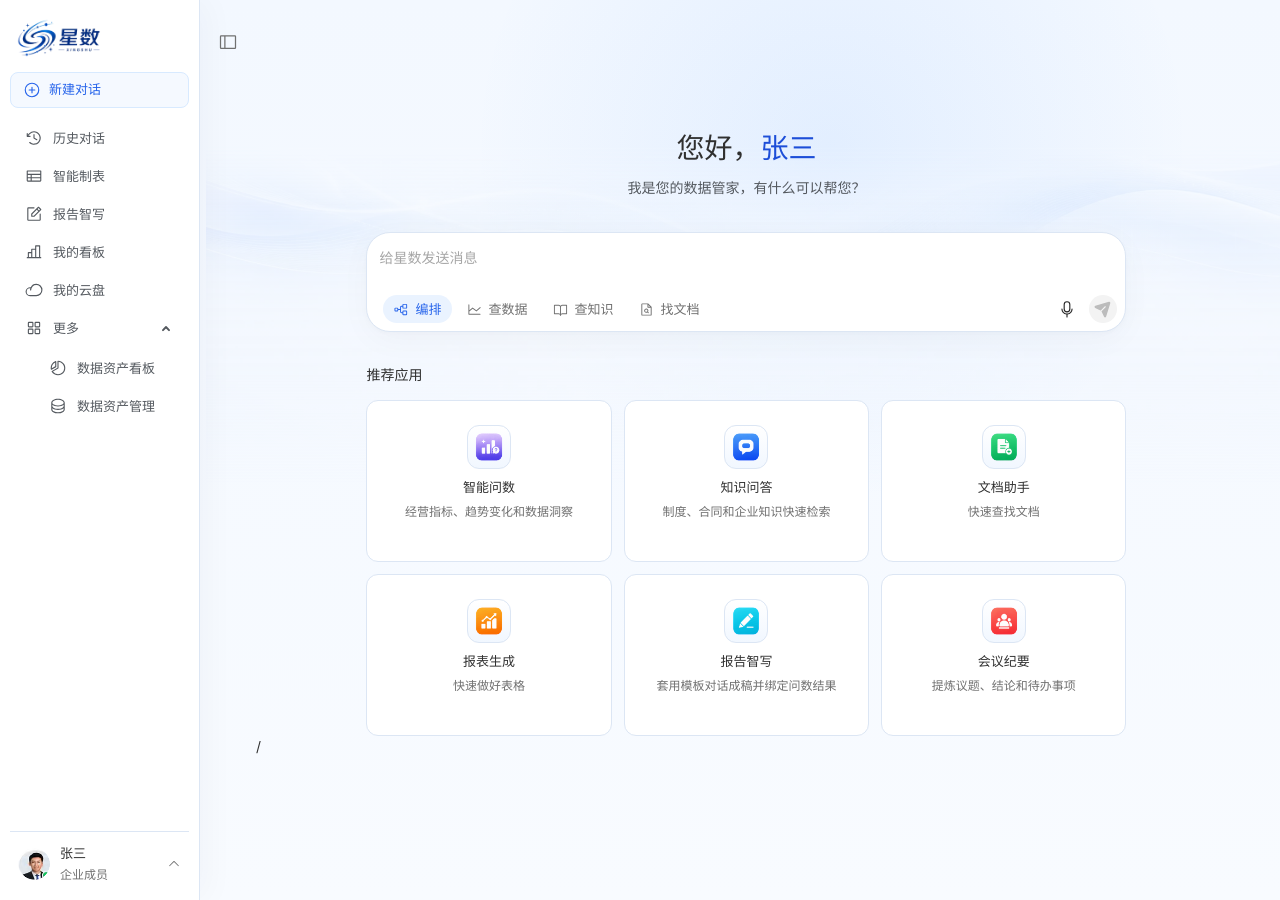
HomePage › uses the colorful recommended app icons and exposes selection state
Expected: the number of elements with class "xs-app-card" is 6, [366, 400, 612, 562]; [624, 400, 869, 562]; [881, 400, 1126, 562]; [366, 574, 612, 736]; [624, 574, 869, 736]; [881, 574, 1126, 736]
Click the button with aria-label "打开 智能问数" at (489, 482), box [383, 415, 595, 549]
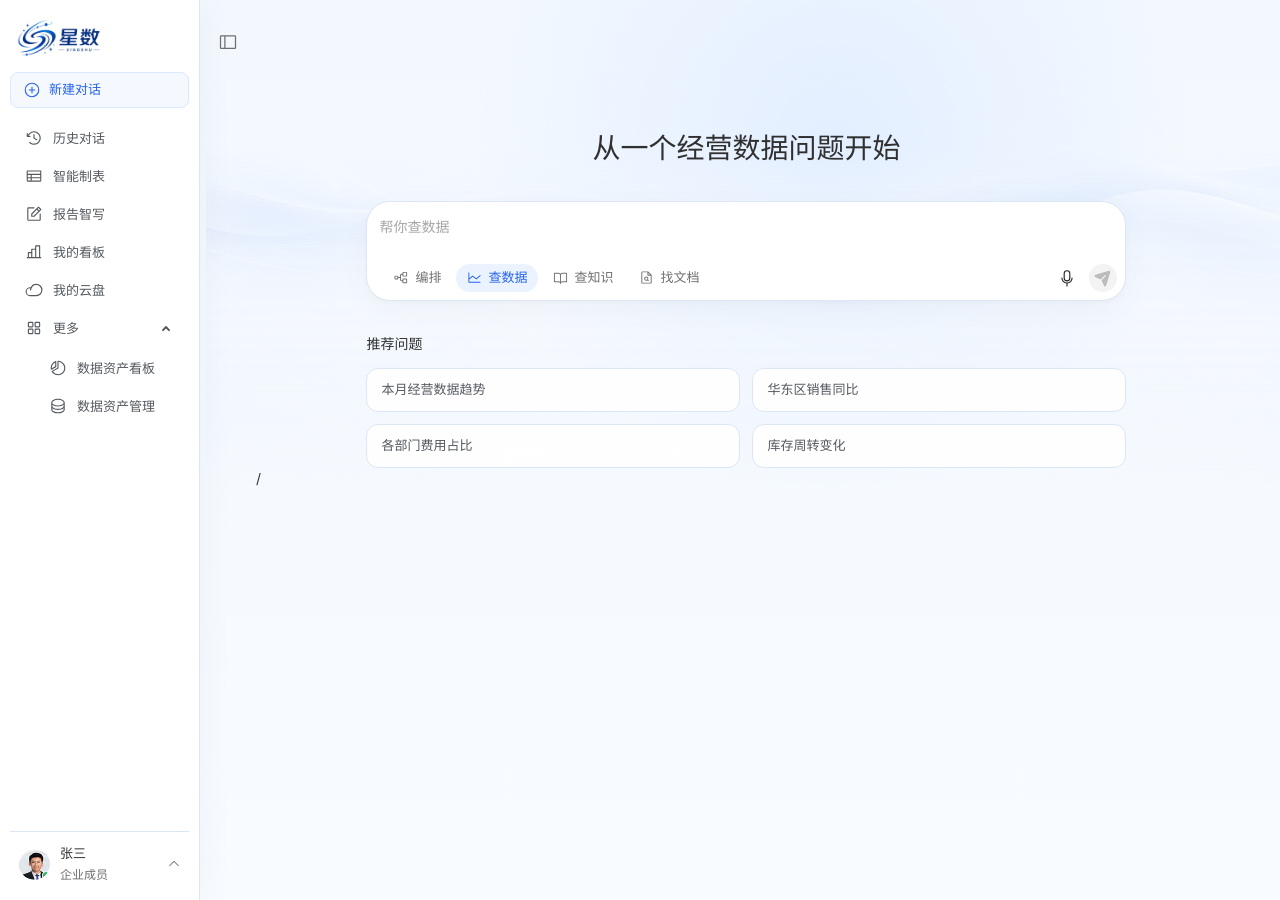
Expected: the button with aria-label "选择模型，当前问数模型" is shown, [456, 264, 538, 292]
Expected: the button with aria-label "切换到编排模型" is shown, [383, 264, 452, 292]
Expected: the heading "从一个经营数据问题开始" is shown, [592, 131, 900, 165]
